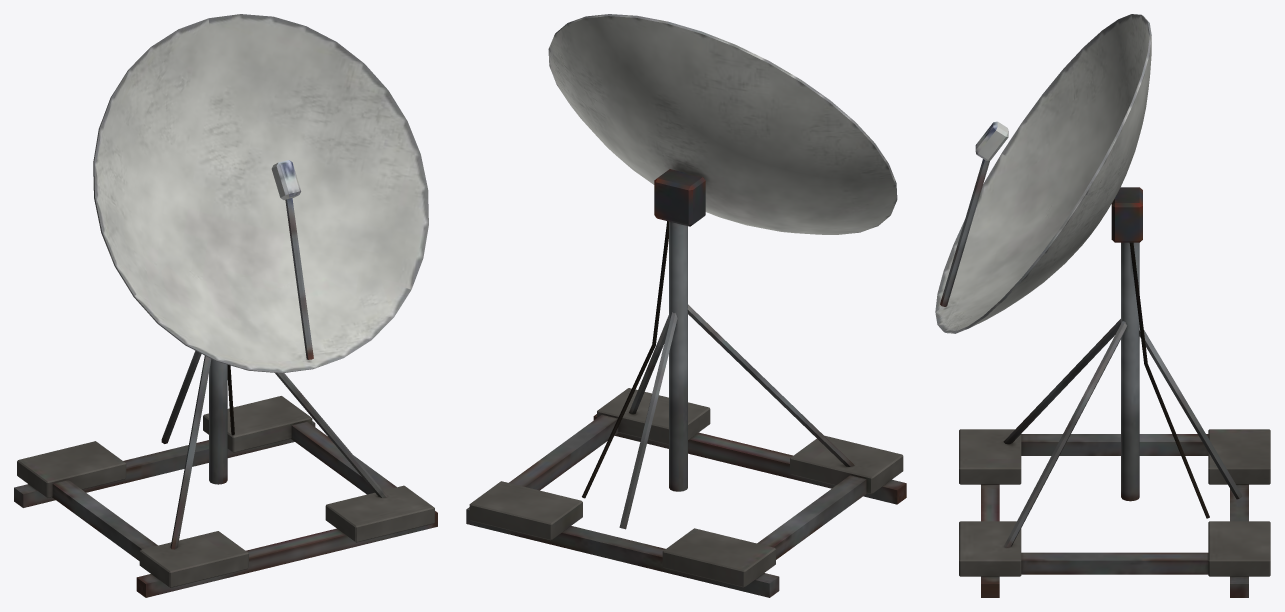
Rendered from satellite_dish.glb.
3 renders of one model, left to right at view 1: azimuth 30°, elevation 25°; view 2: azimuth 150°, elevation 25°; view 3: azimuth 270°, elevation 25°, orthographic. The views are drawn at different scales.
Parts seen in each view (by area): view 1: satellite_dish; view 2: satellite_dish; view 3: satellite_dish.
Boxes of the visible parts, x1,y1,x2,y2 form: satellite_dish: (14, 14, 437, 597); satellite_dish: (466, 14, 906, 597); satellite_dish: (935, 14, 1270, 597).
Size of what is drawn, in the model's own units: 1.2 by 1.74 by 1.08.
Materials: 1 (1 with a texture image).
